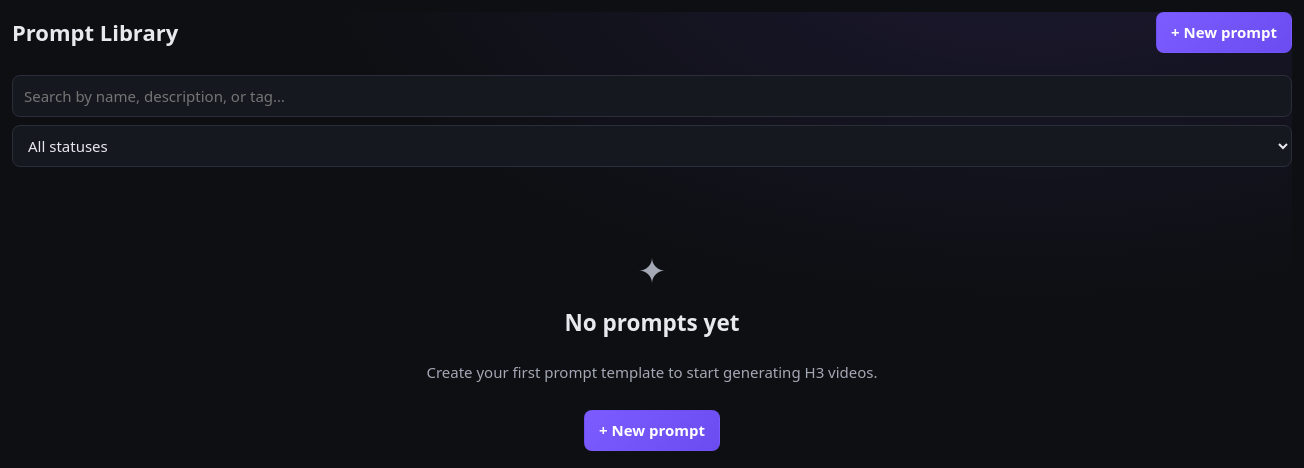
Library search races (debounce + abort + stale guard) › ignores a stale error from a superseded query
Type "x" into the search field named "Search prompts". click: {"x": 652, "y": 96}
box: x1=12 y1=74 x2=1292 y2=117
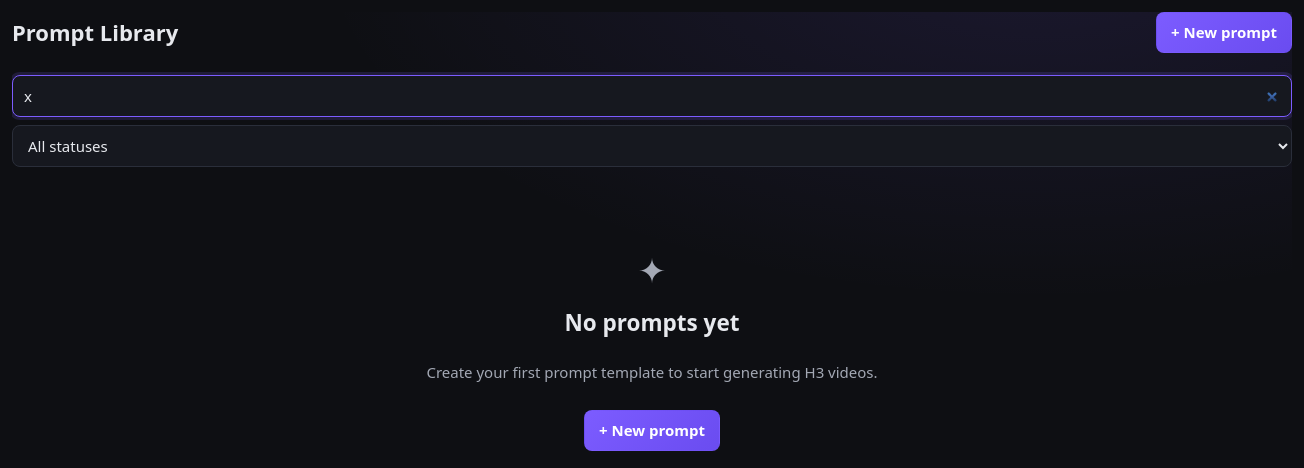
Type "y" into the search field named "Search prompts". click: {"x": 652, "y": 96}
box: x1=12 y1=74 x2=1292 y2=117
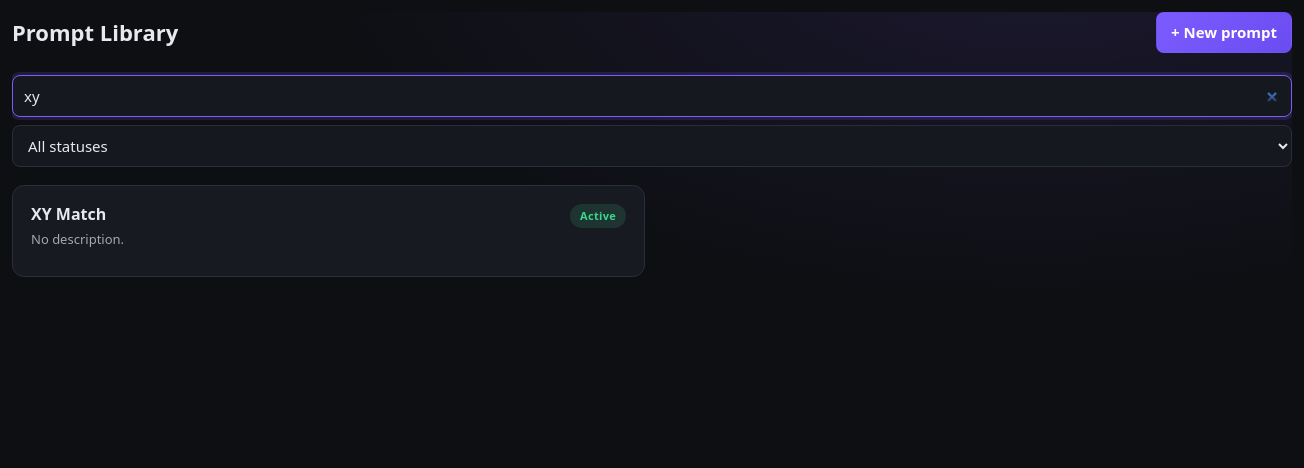
Now the heading "XY Match" is shown, box x1=31 y1=202 x2=106 y2=226
